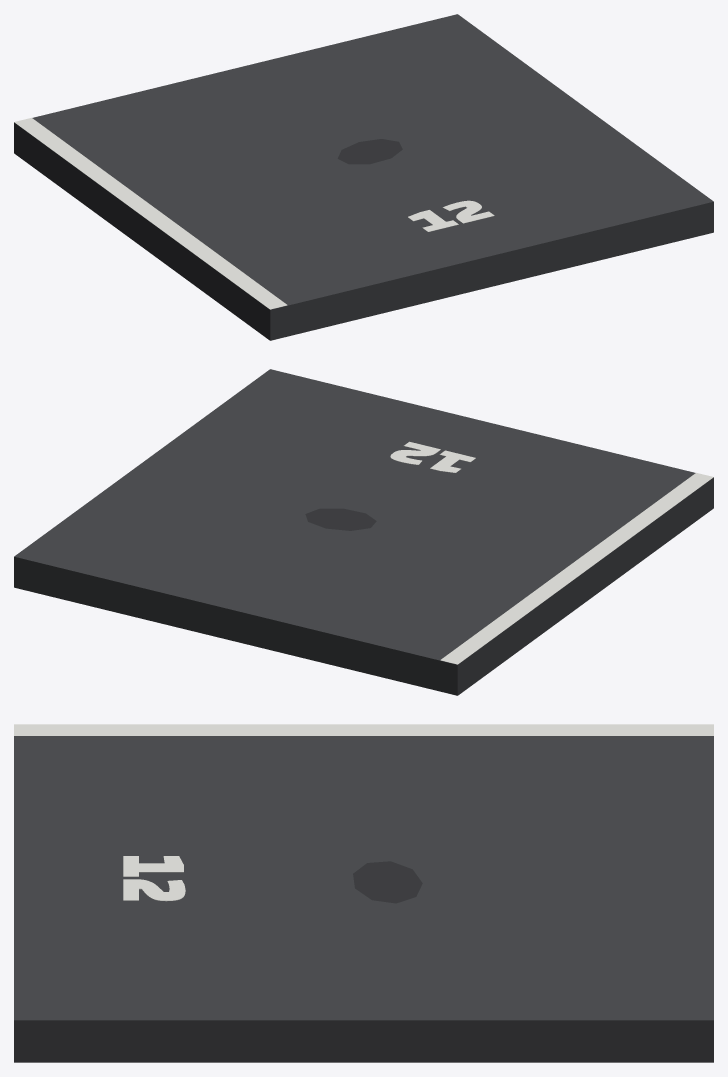
Rendered from SC_Gnd_Parking_Lines_3x3.gltf.
3 renders of one model, top to bottom at view 1: azimuth 30°, elevation 25°; view 2: azimuth 150°, elevation 25°; view 3: azimuth 270°, elevation 25°, orthographic. The views are drawn at different scales.
Visible parts, largest first — view 1: SC_Gnd_Parking_Lines_3x3; view 2: SC_Gnd_Parking_Lines_3x3; view 3: SC_Gnd_Parking_Lines_3x3.
Boxes of the visible parts, x1,y1,x2,y2 form: SC_Gnd_Parking_Lines_3x3: (14, 14, 713, 340); SC_Gnd_Parking_Lines_3x3: (14, 369, 713, 695); SC_Gnd_Parking_Lines_3x3: (14, 724, 713, 1062).
Size of the model in its own units: 3 by 0.203 by 3.
1 material, 1 textured.
